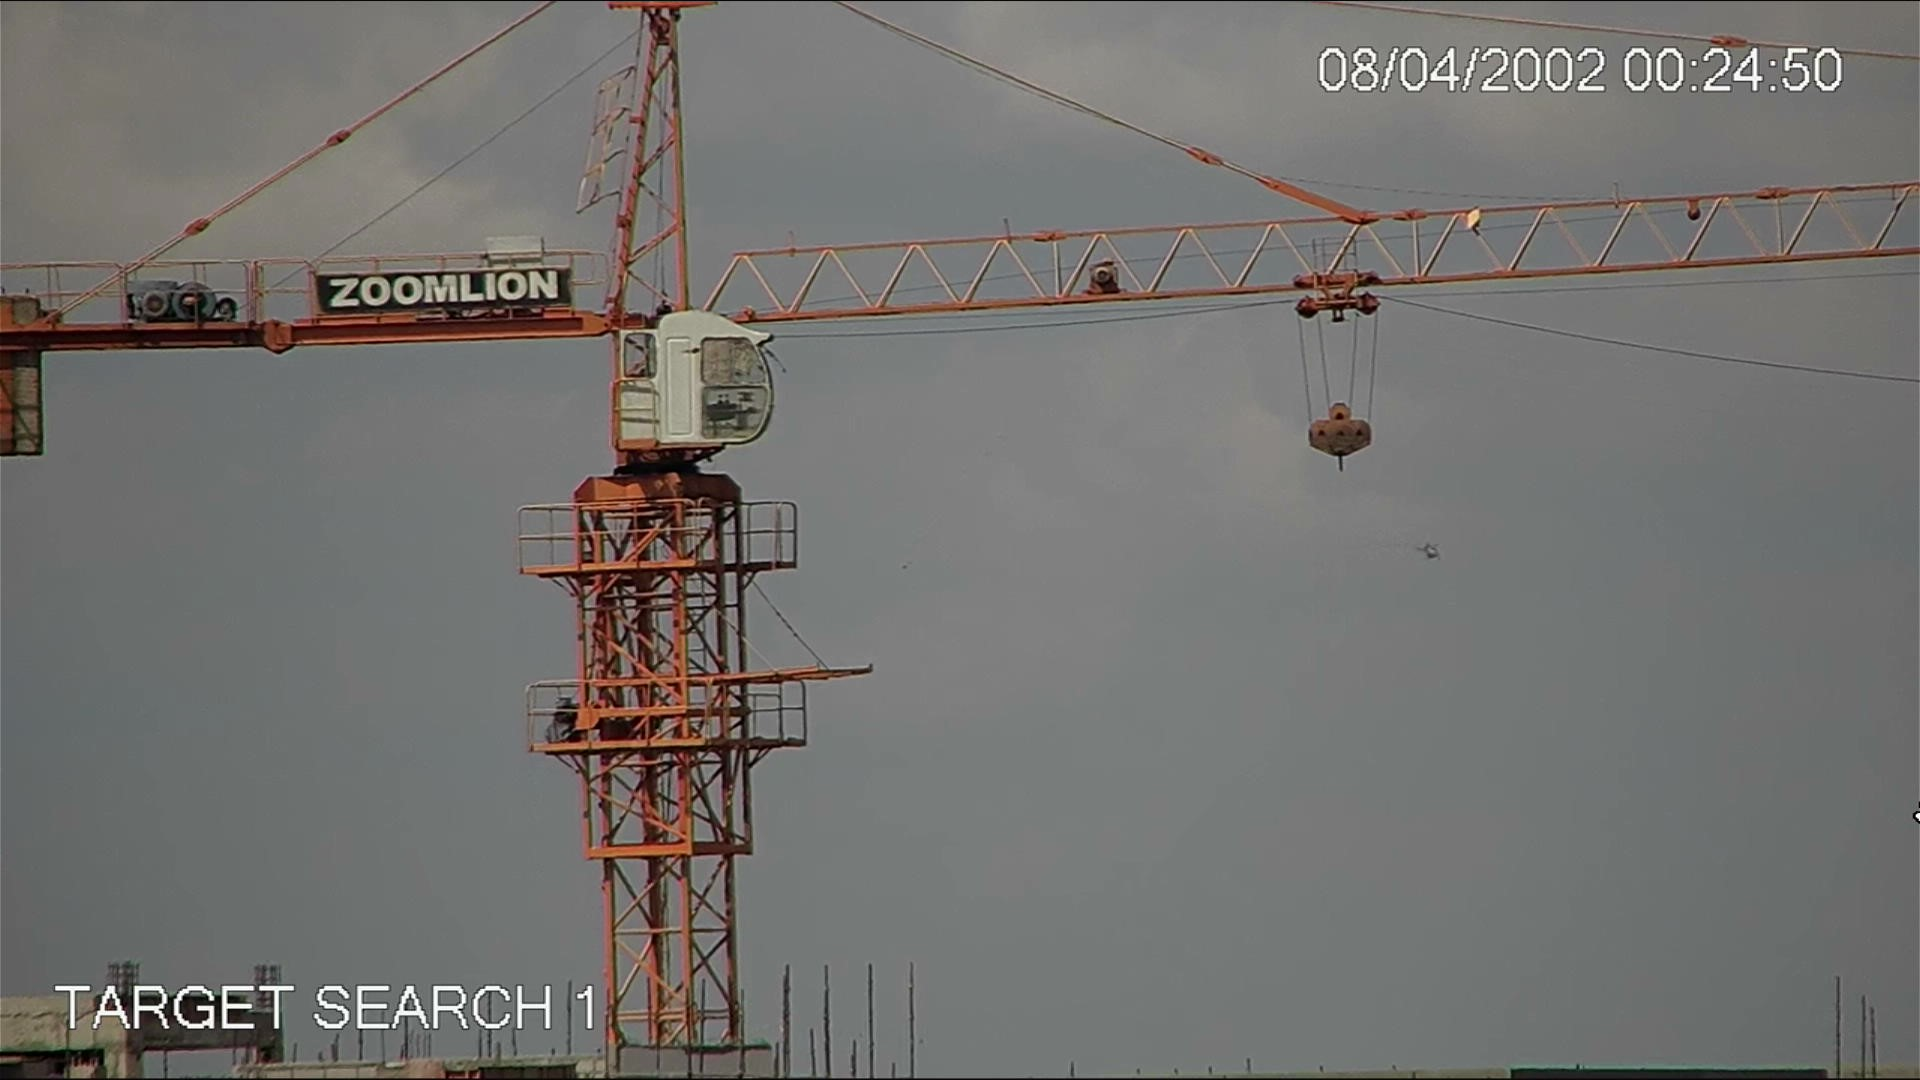SU_30: (1407, 537, 1443, 563)
